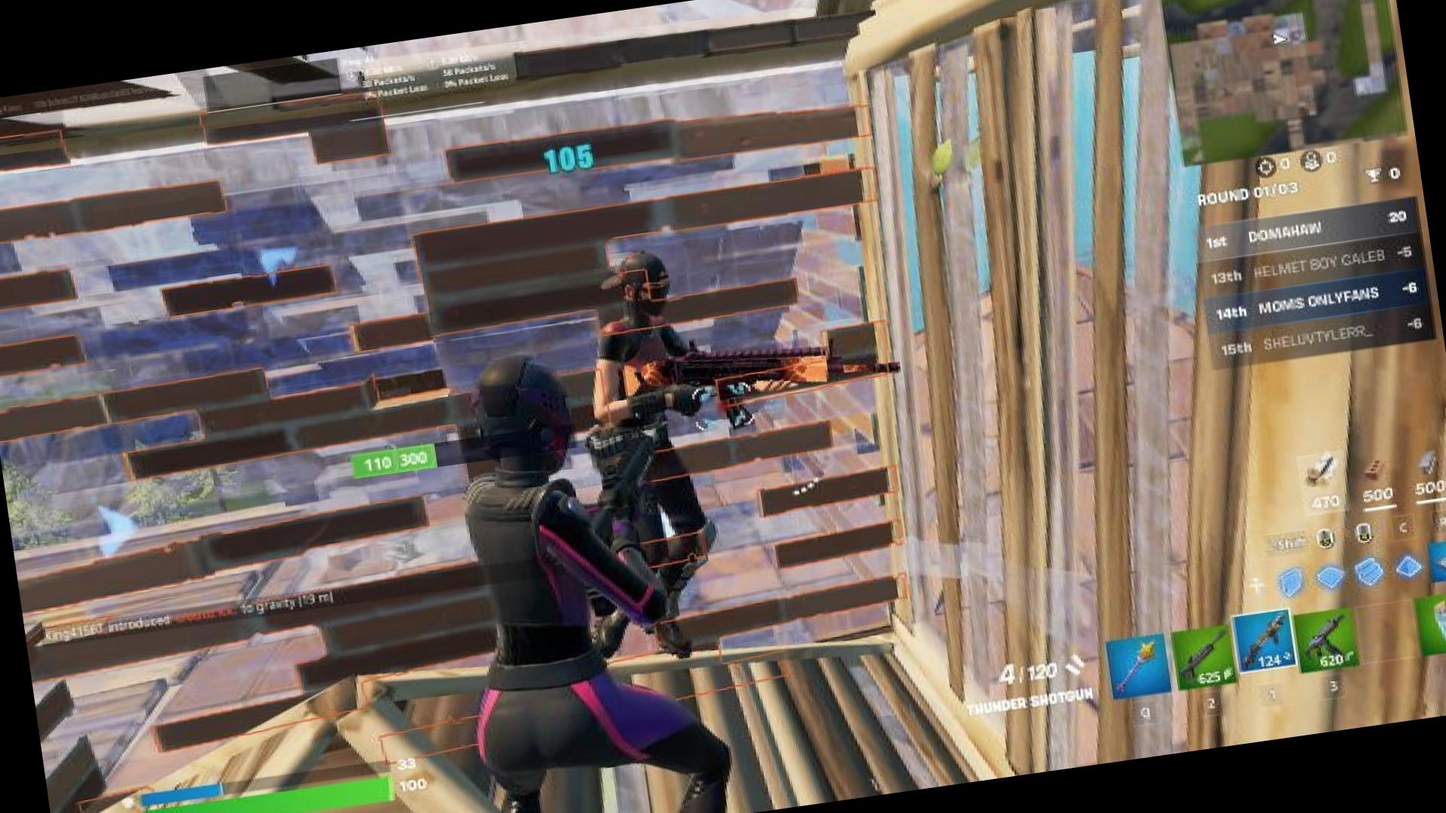player: (358, 318, 757, 813), (554, 244, 722, 673)
